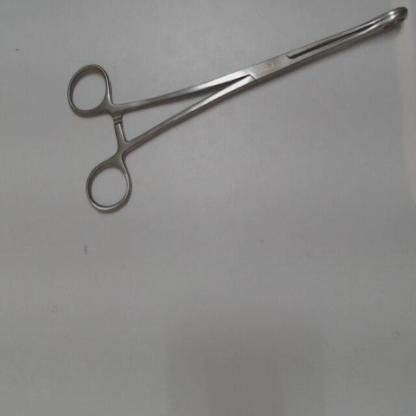Sponge Forceps: (62, 1, 413, 225)
